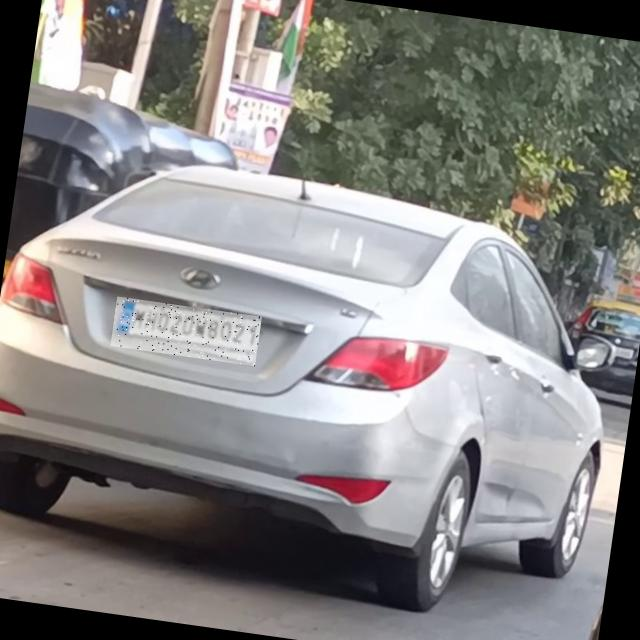Plate: (111, 298, 263, 368)
